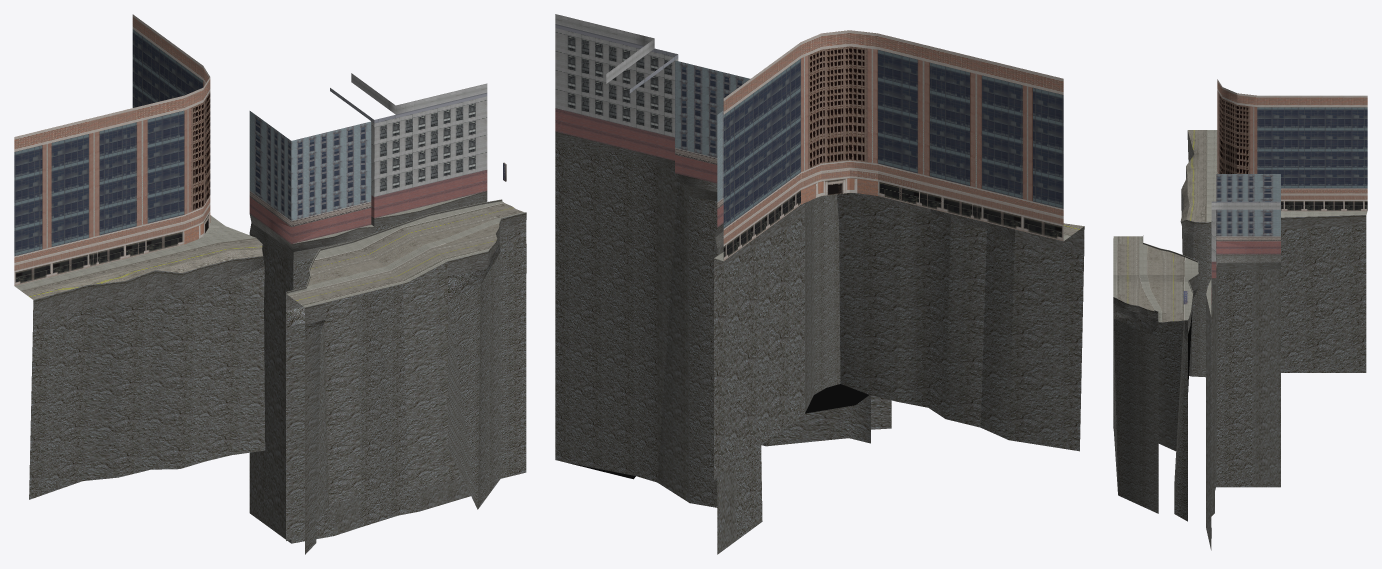
Rendered from STG0100_OS_03.fbx.
3 views of the same model, side by side, from view 1: azimuth 30°, elevation 25°; view 2: azimuth 150°, elevation 25°; view 3: azimuth 270°, elevation 25° (orthographic). The views are drawn at different scales.
Parts seen in each view (by area): view 1: STG0100_OS_03_default; view 2: STG0100_OS_03_default; view 3: STG0100_OS_03_default.
Boxes of the visible parts, left/top/right/bottom form: STG0100_OS_03_default: left=14, top=14, right=526, bottom=554; STG0100_OS_03_default: left=555, top=14, right=1084, bottom=554; STG0100_OS_03_default: left=1113, top=79, right=1367, bottom=550.
Size of the model in its own units: 2324 by 2215 by 1384.
